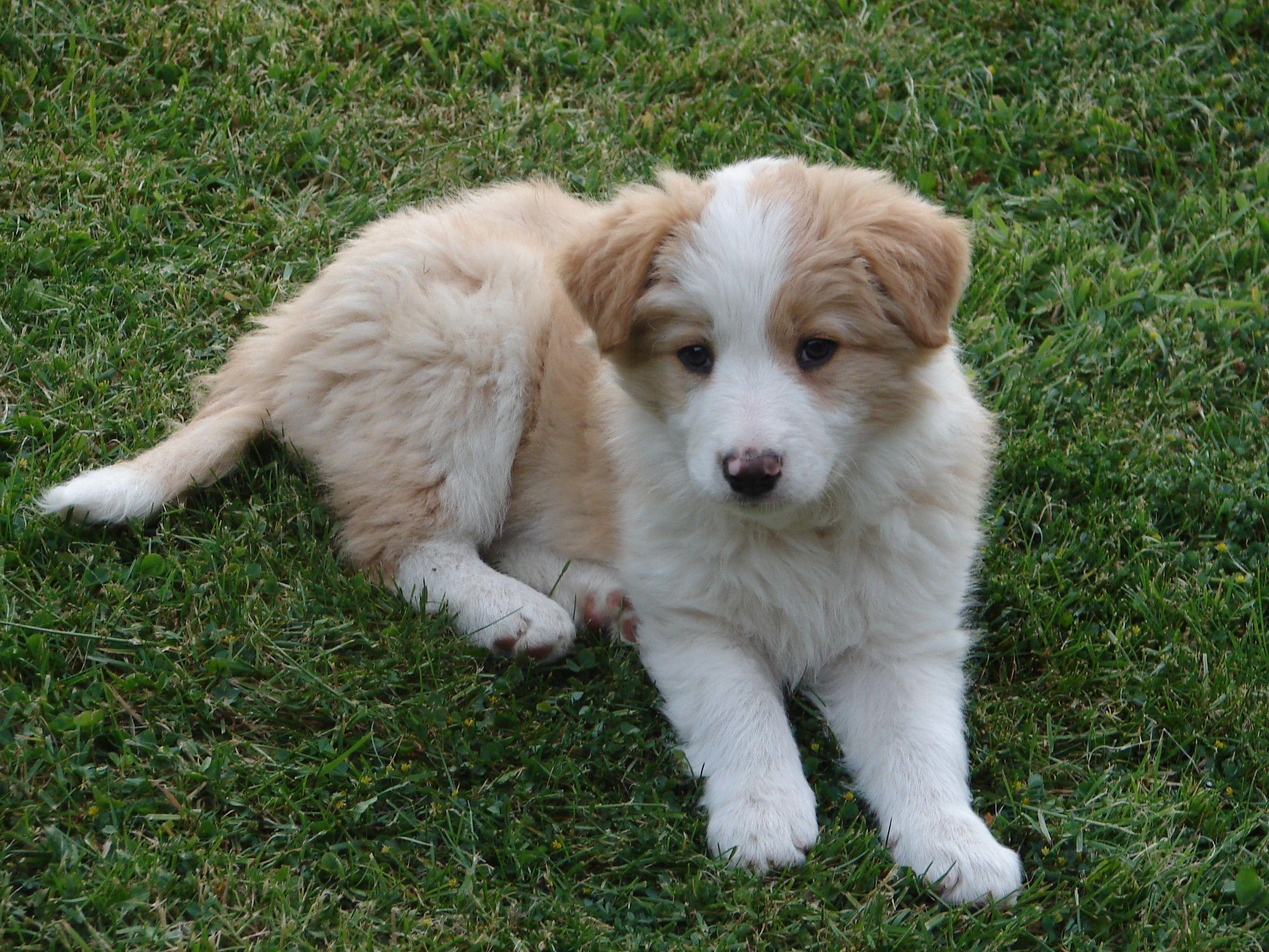puppy-dog: (30, 156, 1027, 907)
